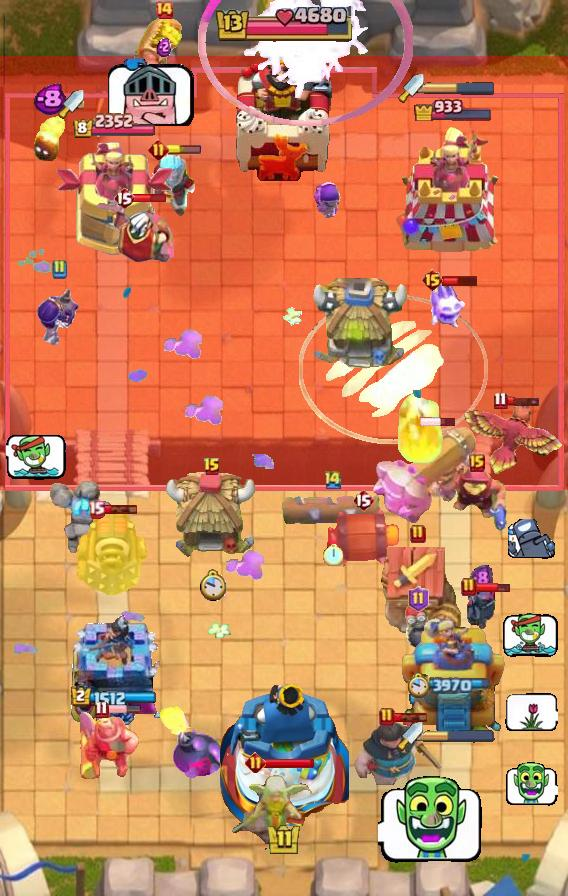baby-dragon: (154, 704, 226, 778)
bandit: (77, 709, 143, 779)
bar: (394, 126, 512, 256), (54, 142, 173, 256), (402, 615, 507, 731)
barbarian-evolution: (198, 1, 413, 128)
battle-ram: (466, 582, 499, 629)
bomber: (31, 114, 67, 164)
clock: (213, 7, 355, 45)
electro-spirit: (33, 84, 67, 116), (471, 563, 494, 592), (157, 37, 171, 57)
elixir: (198, 570, 225, 602), (407, 672, 429, 700), (323, 543, 343, 566)
emote: (263, 757, 315, 769), (441, 273, 478, 287), (475, 581, 511, 595), (420, 416, 457, 428), (505, 395, 541, 407), (133, 192, 168, 204), (392, 712, 428, 723), (103, 504, 138, 515), (166, 145, 202, 155), (106, 704, 142, 714)
fireball: (446, 465, 508, 533)
furnace: (370, 426, 480, 532)
goblin: (314, 182, 343, 220)
goblin-ball: (37, 280, 81, 346)
goblin-hut: (128, 15, 200, 103)
golden-knight: (460, 399, 566, 477)
golem: (72, 505, 150, 597)
ice-golem: (402, 600, 434, 650)
ice-wizard: (300, 295, 488, 444)
king-tower: (219, 678, 349, 826), (232, 45, 336, 181)
king-tower-bar: (424, 81, 496, 95), (423, 729, 495, 743)
minion: (281, 493, 385, 527)
mirror: (429, 280, 469, 330)
mortar: (136, 147, 202, 219)
poison: (227, 767, 315, 851)
prince: (308, 278, 410, 374), (165, 470, 259, 560)
queen-tower: (65, 614, 162, 730)
royal-hog: (349, 719, 443, 785)
selected: (71, 112, 156, 140), (414, 96, 495, 121), (70, 686, 157, 708), (413, 674, 493, 694)
skeleton: (378, 776, 484, 865), (108, 59, 196, 126), (6, 432, 66, 480), (503, 613, 559, 658), (506, 762, 559, 806), (506, 693, 559, 731), (509, 520, 556, 561)
skeleton-king: (94, 198, 178, 264)
sparky: (375, 546, 461, 644)
text: (420, 268, 443, 292), (407, 586, 428, 612), (113, 186, 135, 210), (352, 488, 374, 512), (147, 140, 169, 161), (245, 751, 266, 772), (323, 469, 343, 490), (154, 0, 174, 20), (203, 457, 221, 477), (87, 500, 105, 519), (51, 259, 67, 279), (410, 524, 426, 544), (461, 577, 477, 597), (379, 707, 395, 727), (469, 454, 485, 472), (493, 391, 508, 410), (94, 701, 109, 720)
the-log: (323, 507, 403, 567)
valkyrie: (392, 392, 446, 468)
valkyrie-evolution: (46, 478, 120, 560)
